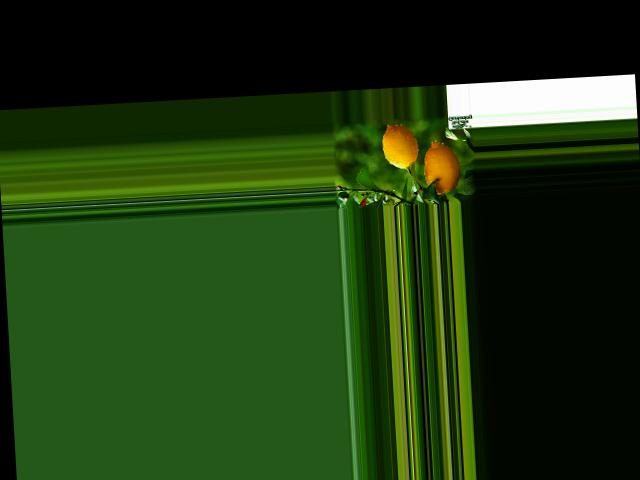lemon: (418, 138, 463, 197)
